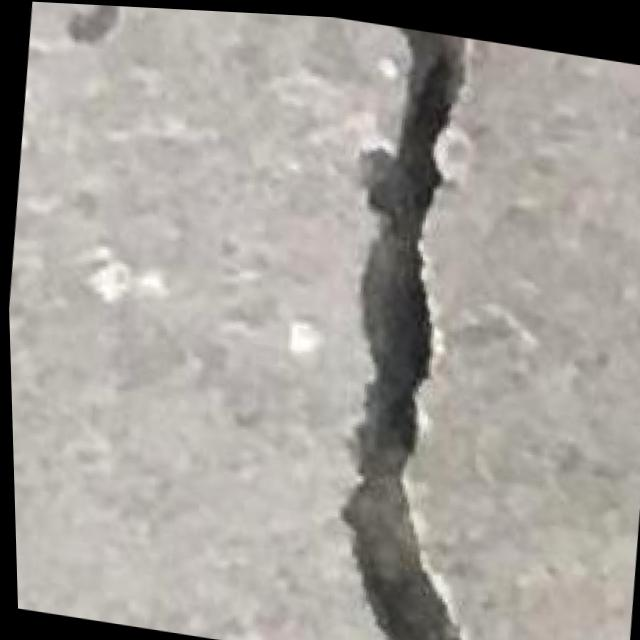Crack: (291, 17, 541, 640)
